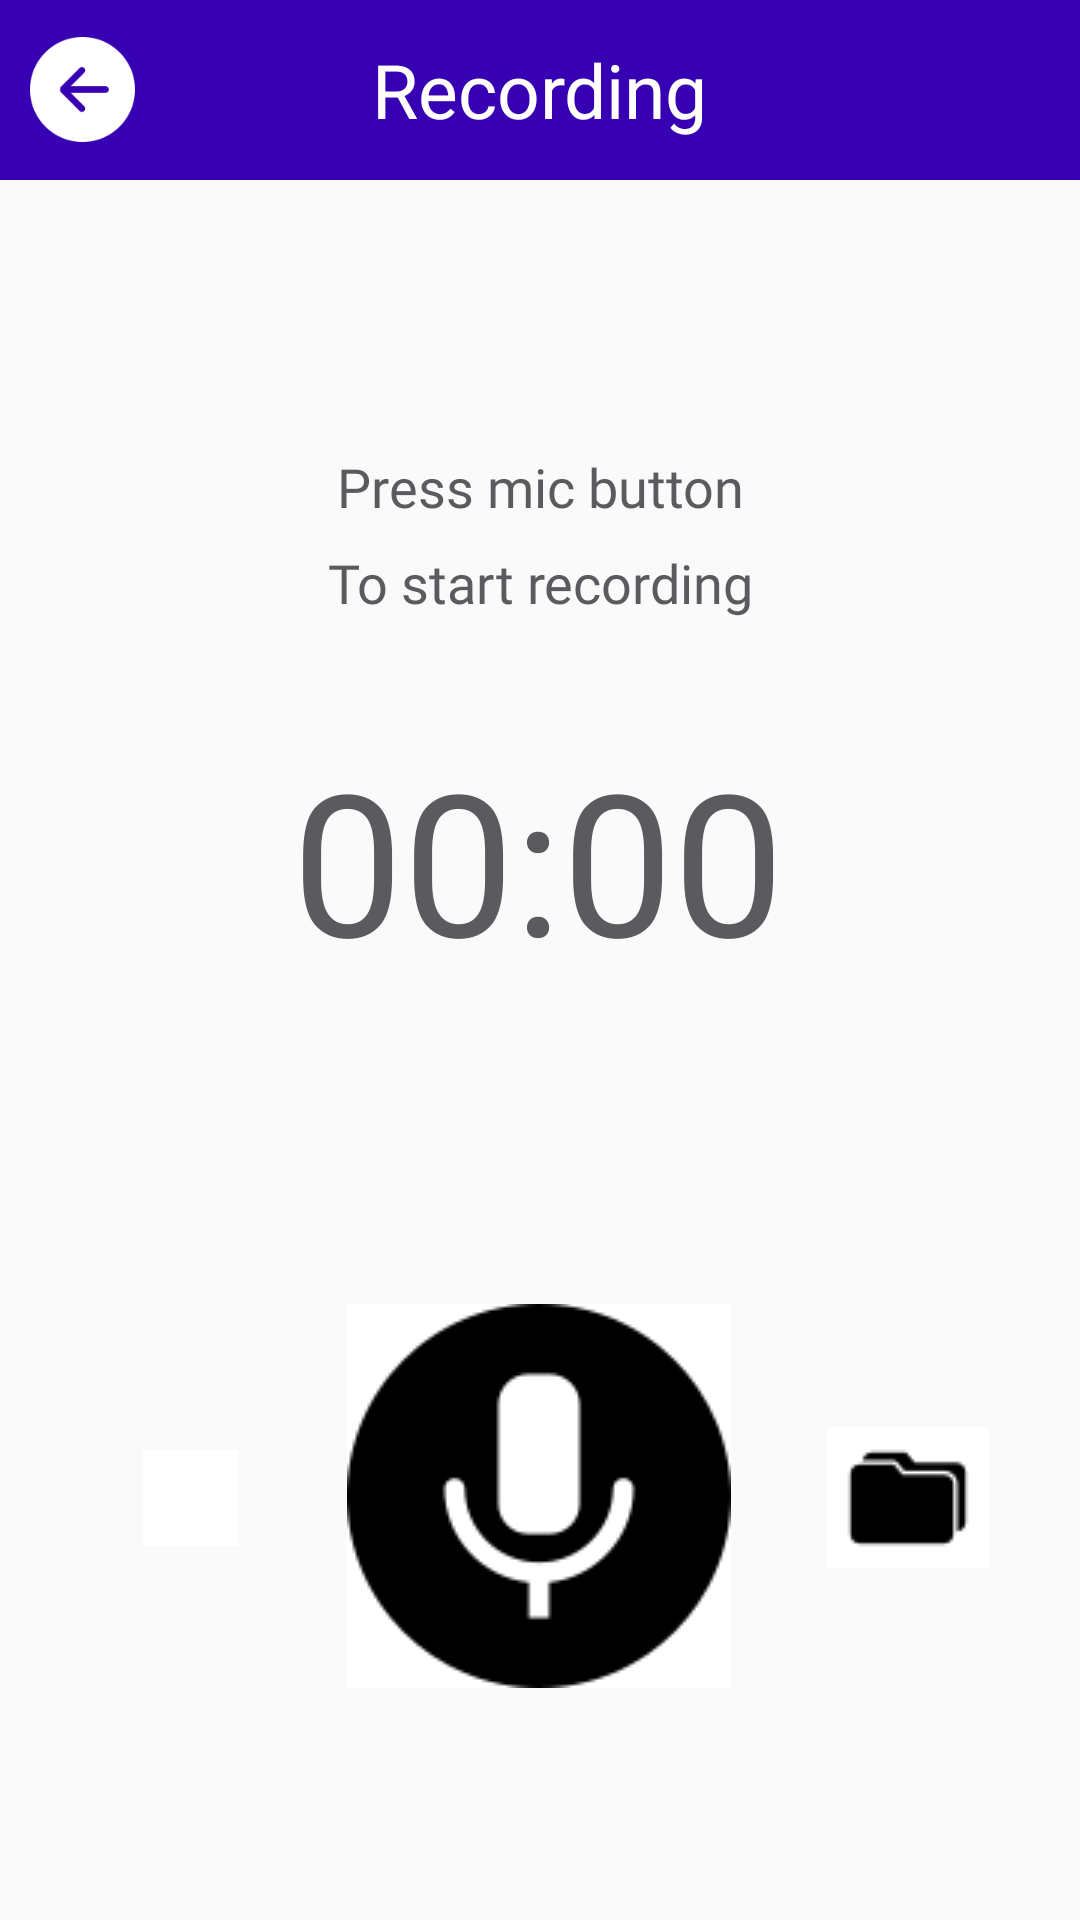

Locate icon controls on the screen. Image size 1080px x 1920px, boxes as (x1, y1, x2, y2).
folder: (848, 1450, 968, 1546)
leftarrow: (30, 37, 135, 142)
